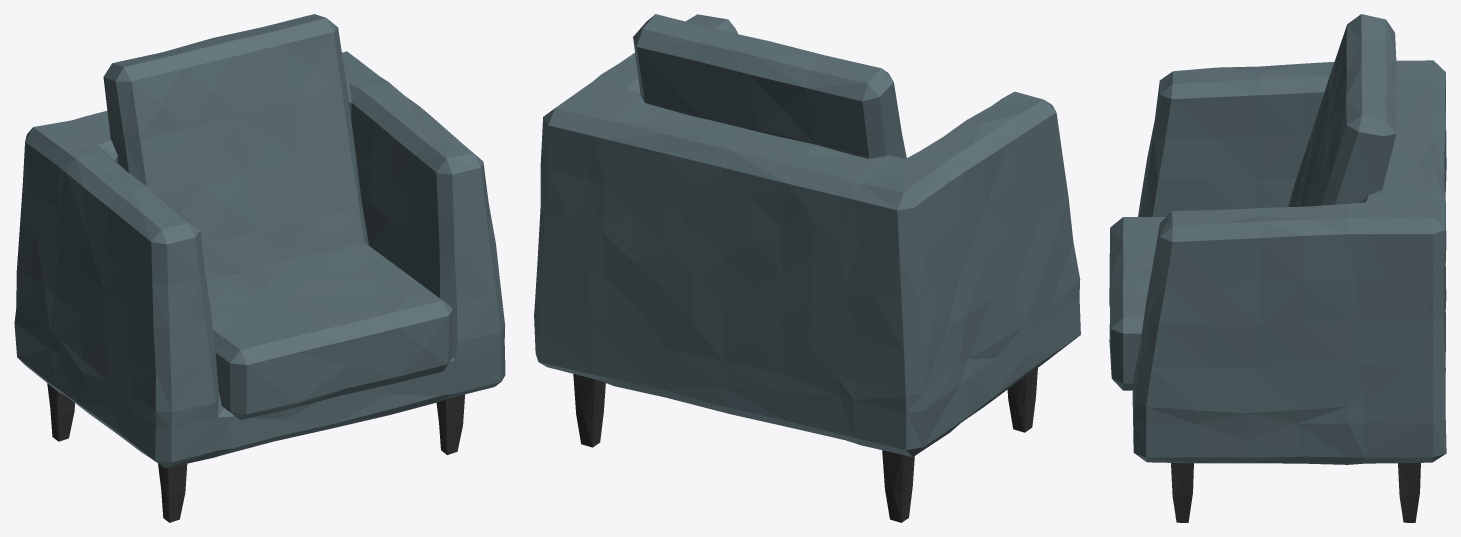
The model's file is livingroom_chair.fbx.
3 renders of one model, left to right at view 1: azimuth 30°, elevation 25°; view 2: azimuth 150°, elevation 25°; view 3: azimuth 270°, elevation 25°, orthographic. The views are drawn at different scales.
Visible parts, largest first — view 1: livingroom_chair; view 2: livingroom_chair; view 3: livingroom_chair.
Part boxes in pixels (<box>): livingroom_chair: <box>14,14,505,522</box>; livingroom_chair: <box>534,14,1080,522</box>; livingroom_chair: <box>1109,14,1446,522</box>.
Size of the model in its own units: 85.33 by 87.78 by 69.22.
